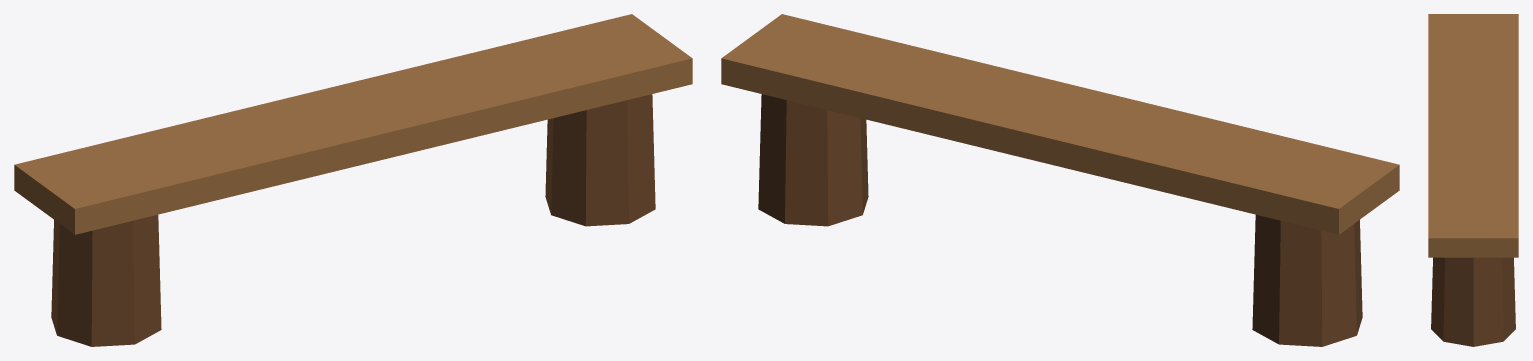
The model's file is GameBench.obj.
3 renders of one model, left to right at view 1: azimuth 30°, elevation 25°; view 2: azimuth 150°, elevation 25°; view 3: azimuth 270°, elevation 25°, orthographic. The views are drawn at different scales.
Parts seen in each view (by area): view 1: GameBench; view 2: GameBench; view 3: GameBench.
Boxes of the visible parts, x1=… form: GameBench: x1=14, y1=14, x2=692, y2=346; GameBench: x1=721, y1=14, x2=1399, y2=346; GameBench: x1=1428, y1=14, x2=1518, y2=346.
Bounding box in the file's own units: 2 × 0.47 × 0.34.
